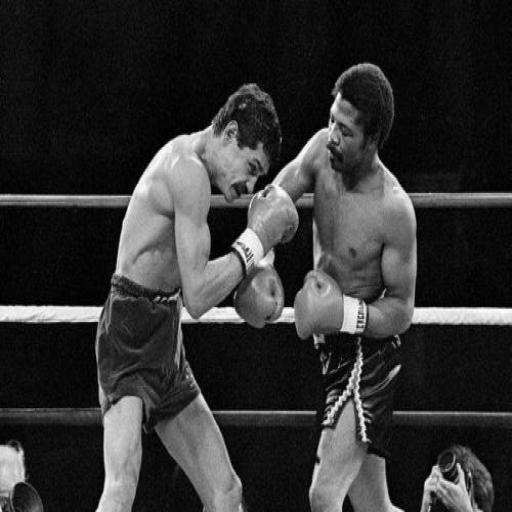boxing: (249, 15, 512, 512), (92, 80, 298, 509)
